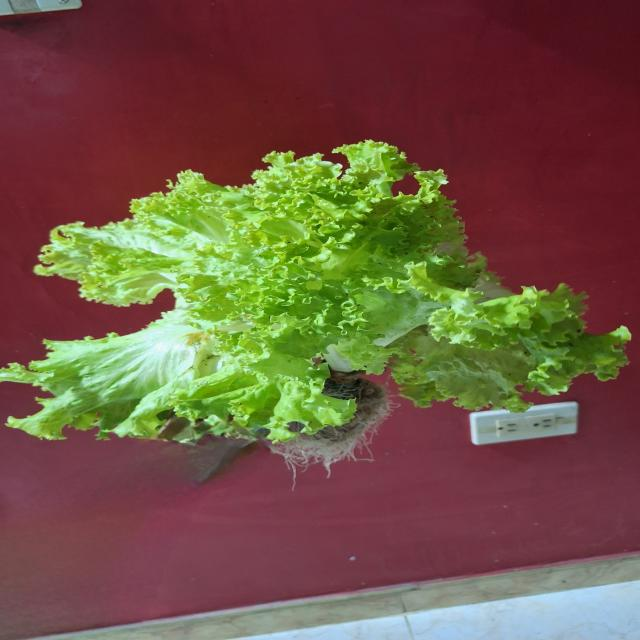lista_para_cosechar: (0, 140, 630, 466)
